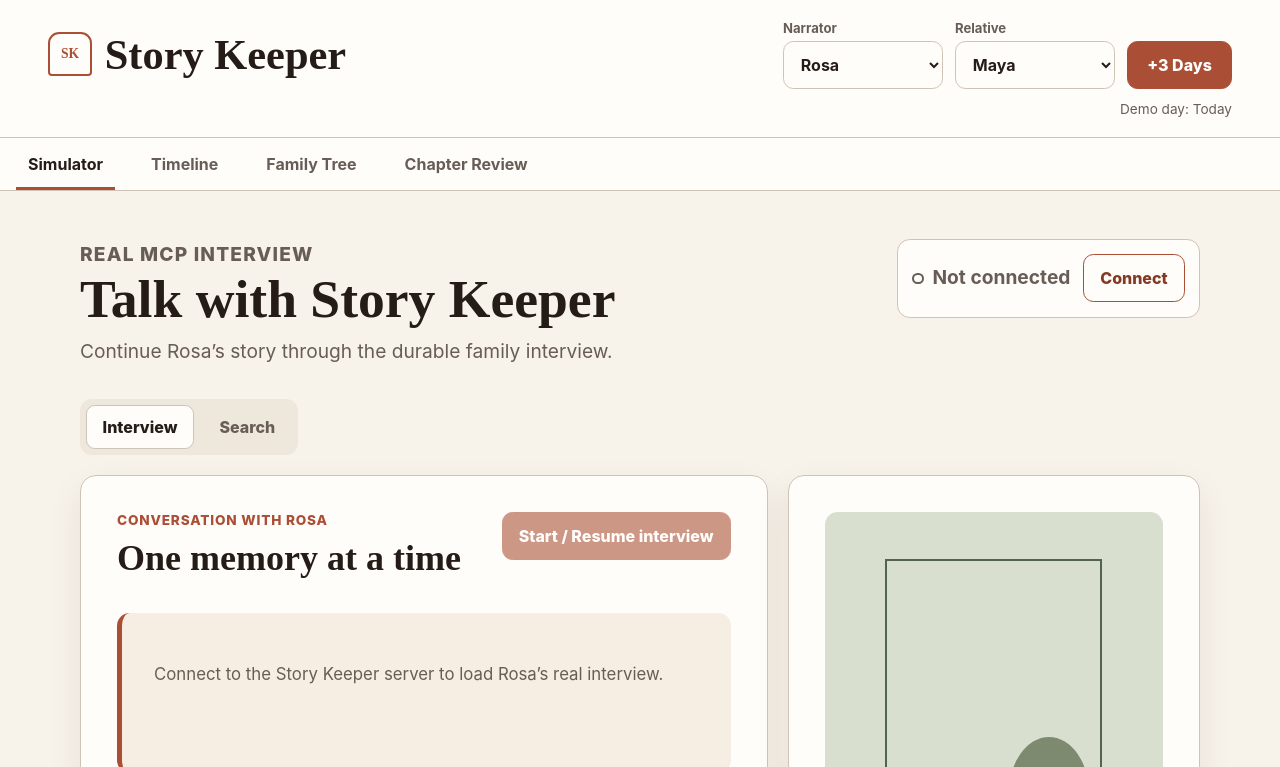
Test: SimulatorApp › confirms a resolution and refreshes conflicts from canonical backend state
Click the button "Connect" at coordinates (1134, 278), box 1083,254 -> 1185,302
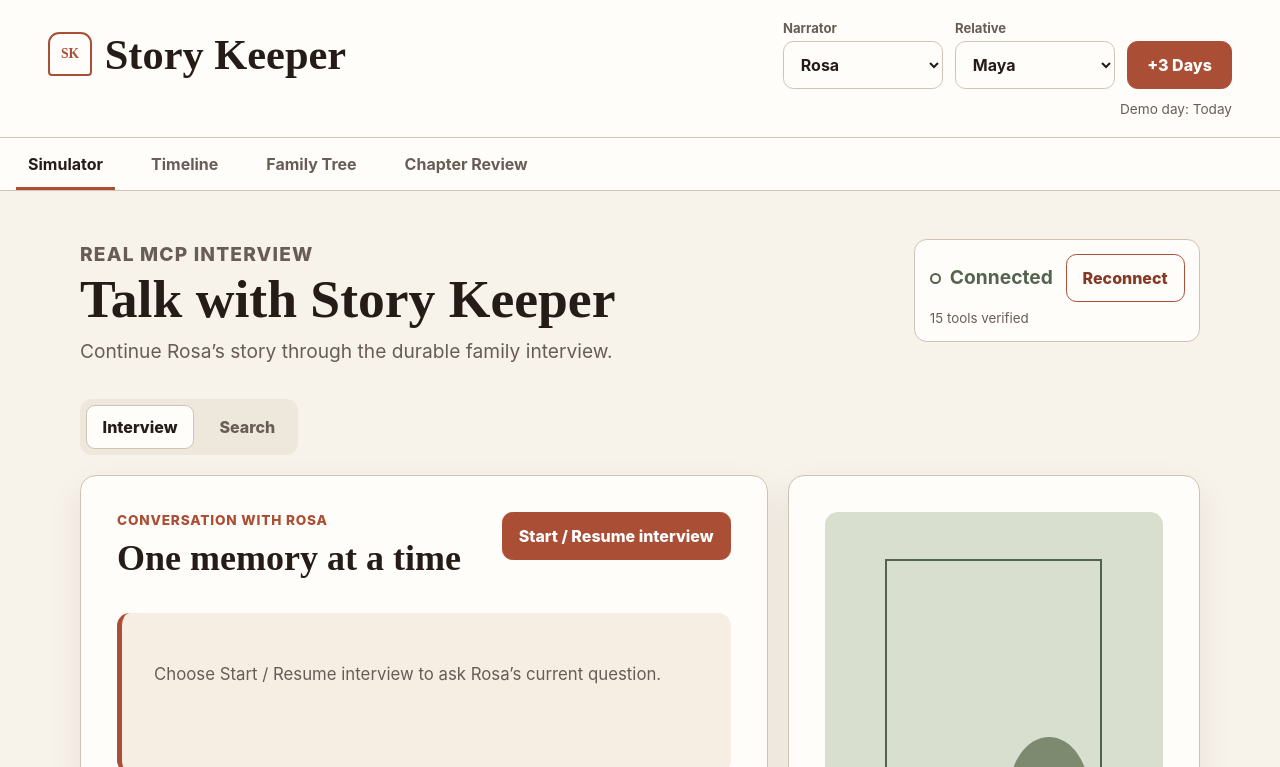
Expected: the text "15 tools verified" is shown, 930,310 -> 1029,326
Click the button "Start / Resume interview" at coordinates (616, 536), box 502,512 -> 730,560
(page scrolled)
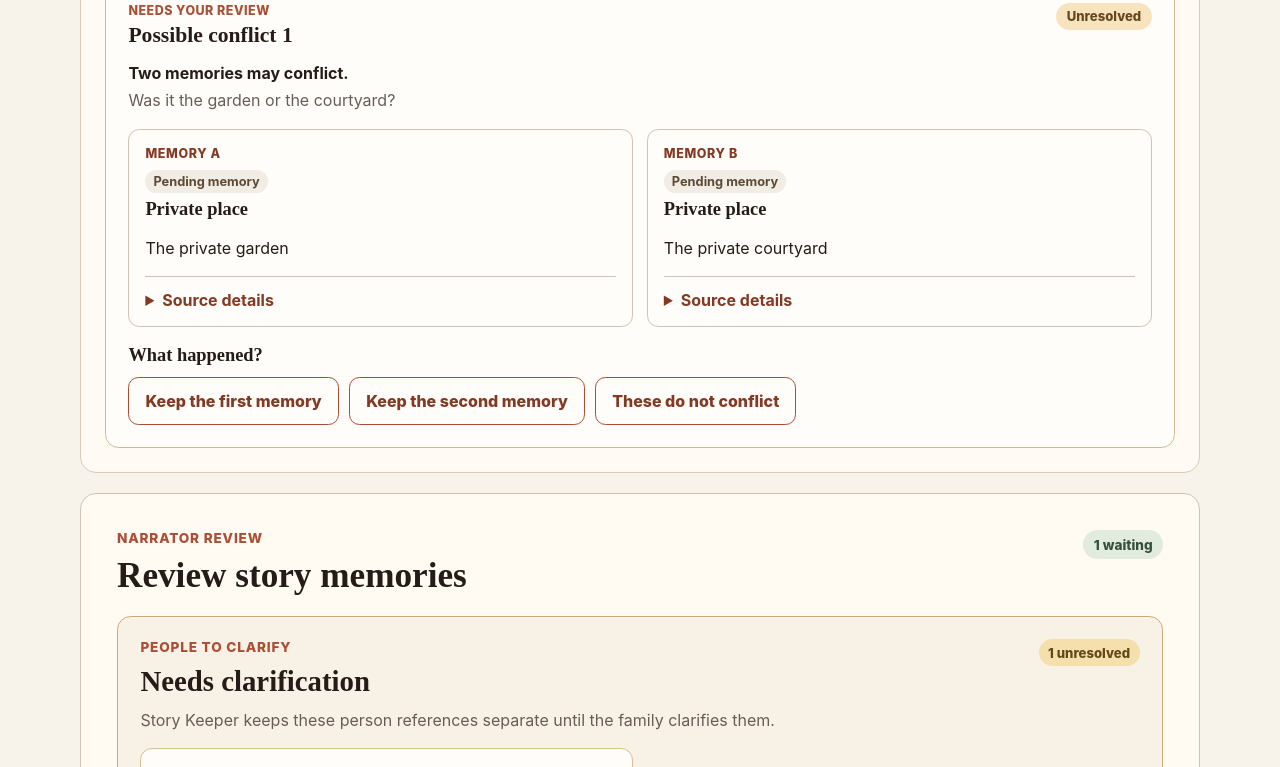
Expected: the heading "Possible conflict 1" is shown, 128,23 -> 293,48
Click the button "Keep the first memory" at coordinates (234, 401), box 128,377 -> 339,425
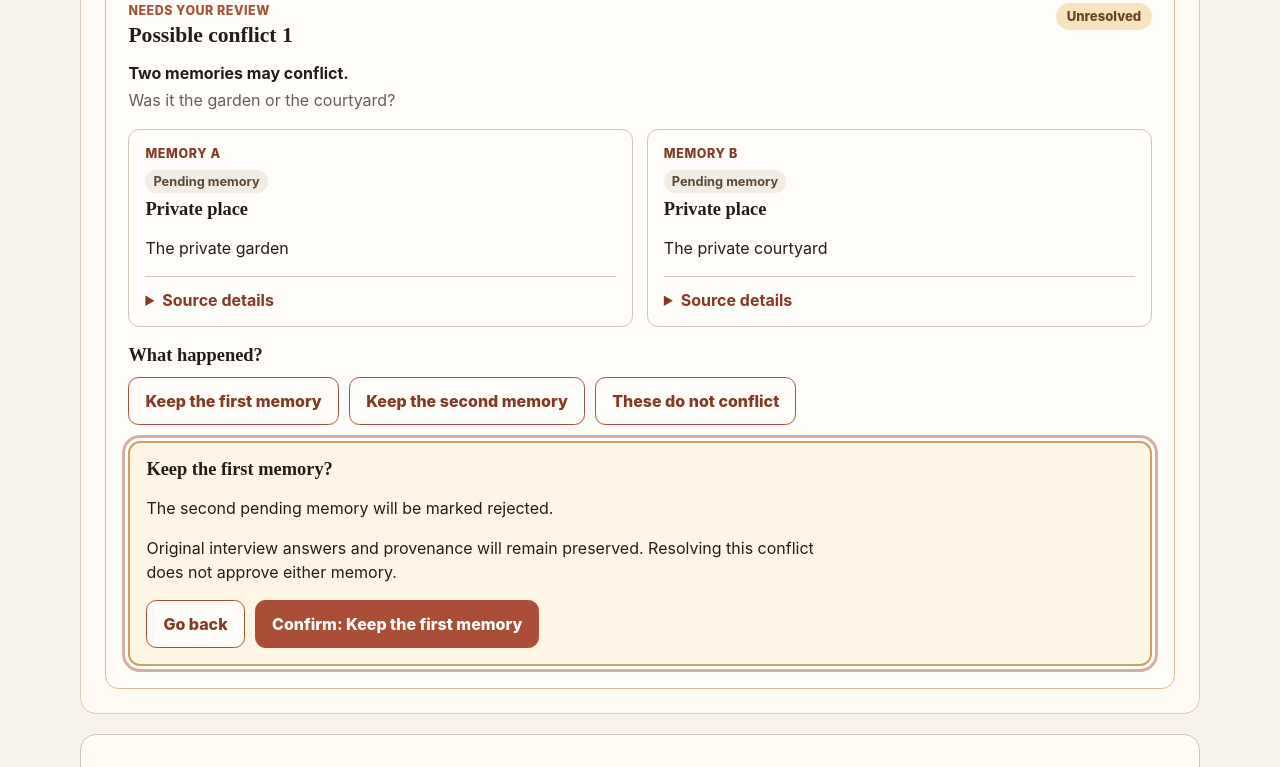
Click the button "Confirm: Keep the first memory" at coordinates (397, 624), box 255,600 -> 539,648
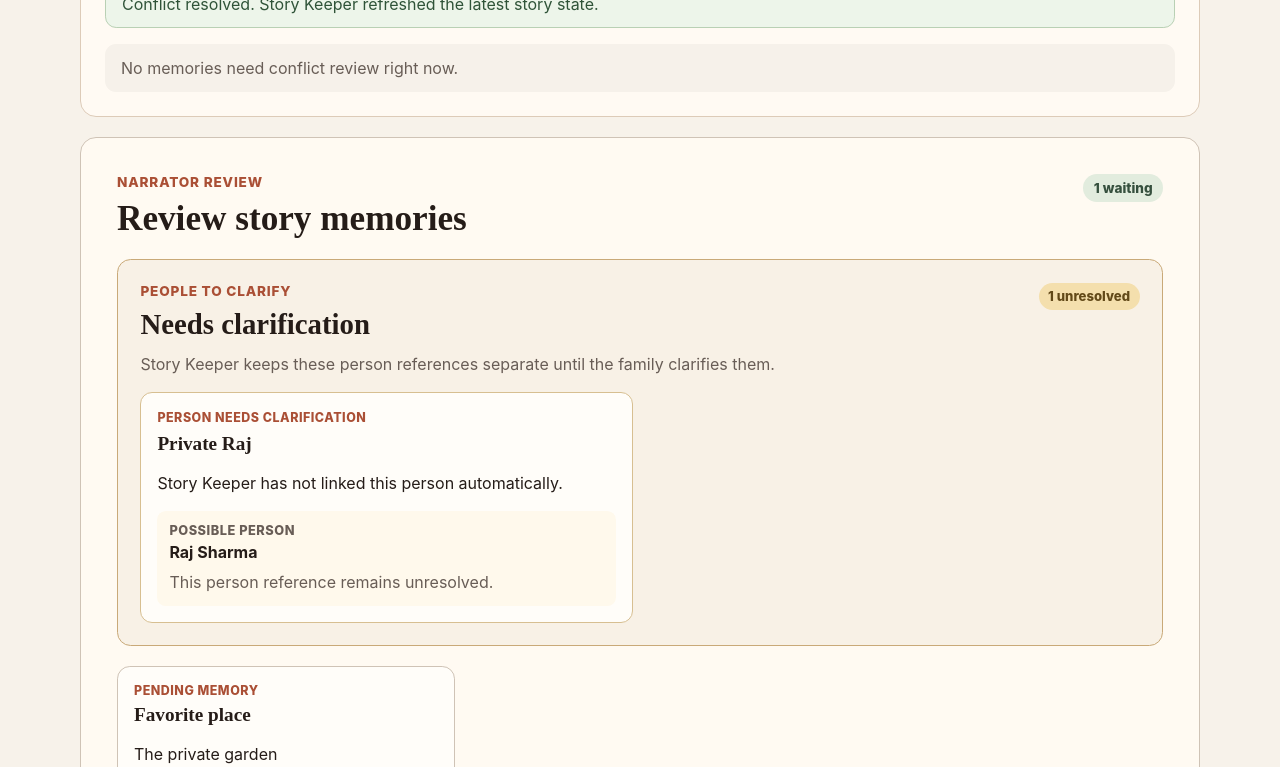
Expected: the text "The private garden" is shown, 134,744 -> 277,764
Expected: the text "No memories need conflict review right now." is shown, 105,44 -> 1175,92
